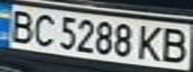2: (72, 17, 96, 55)
5: (54, 15, 78, 52)
8: (112, 20, 136, 58), (93, 19, 115, 56)
B: (157, 25, 193, 64), (3, 7, 39, 44)
C: (27, 11, 60, 47)
K: (133, 23, 166, 62)
